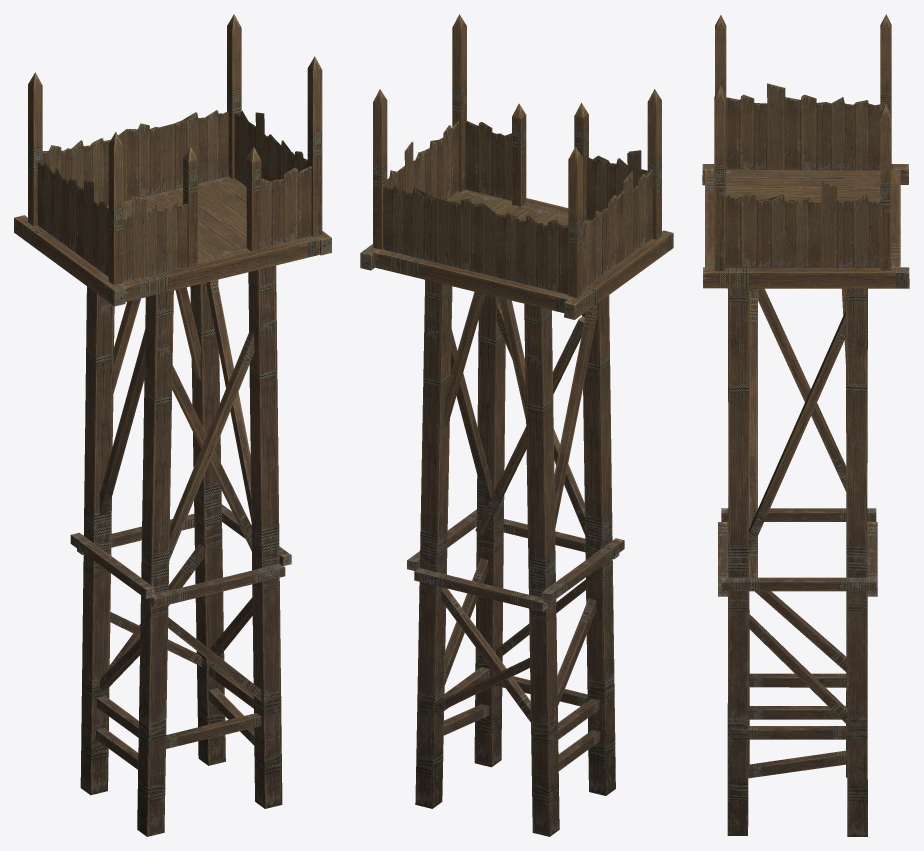
File: i_hl_gaoshaota01_lod2.FBX
The picture shows the model from 3 angles, left to right: view 1: azimuth 30°, elevation 25°; view 2: azimuth 150°, elevation 25°; view 3: azimuth 270°, elevation 25°; orthographic projection. The views are drawn at different scales.
Visible parts, largest first — view 1: i_hl_gaoshaota01_lod2; view 2: i_hl_gaoshaota01_lod2; view 3: i_hl_gaoshaota01_lod2.
Boxes of the visible parts, x1=… form: i_hl_gaoshaota01_lod2: x1=14, y1=14, x2=331, y2=836; i_hl_gaoshaota01_lod2: x1=360, y1=14, x2=673, y2=836; i_hl_gaoshaota01_lod2: x1=702, y1=14, x2=909, y2=836.
Bounding box in the file's own units: 5.35 × 17.5 × 4.3.
